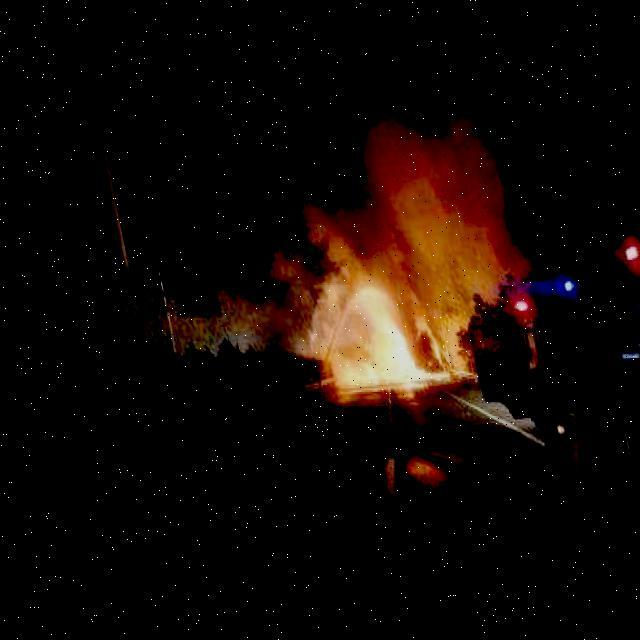Fire: (308, 314, 438, 392)
